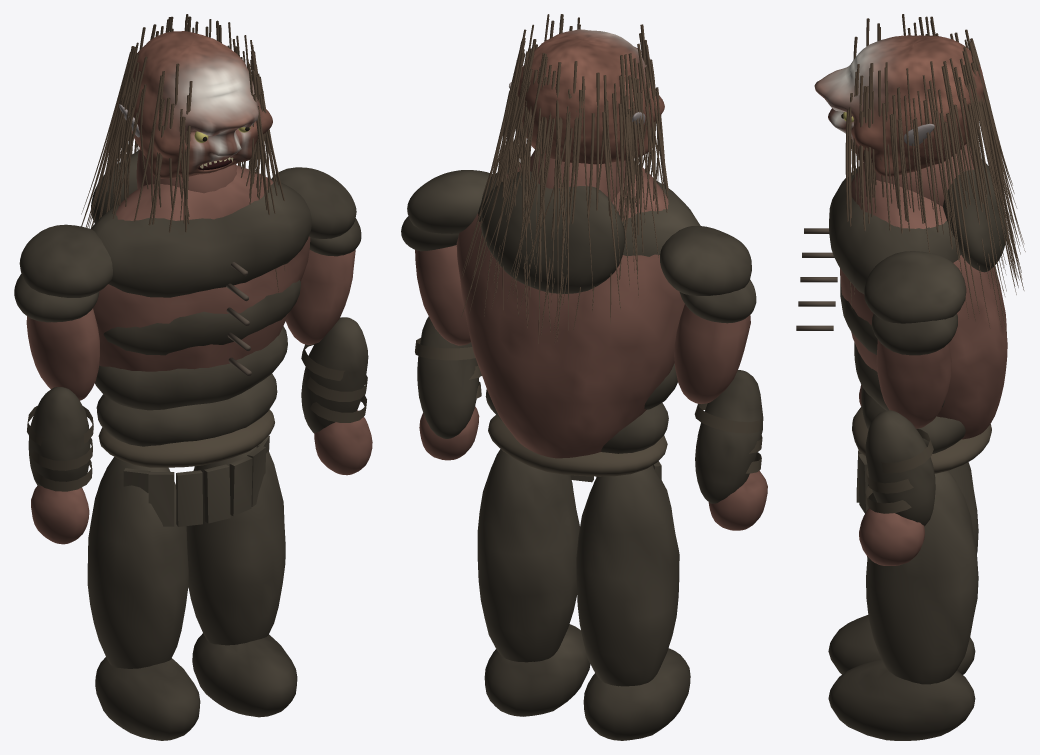
File: orc2.glb
The picture shows the model from 3 angles, left to right: view 1: azimuth 30°, elevation 25°; view 2: azimuth 150°, elevation 25°; view 3: azimuth 270°, elevation 25°; orthographic projection. The views are drawn at different scales.
Parts seen in each view (by area): view 1: Leg, Plate, Torso, Head, Leg.001, OrcHair, Plate.002, Boot, Boot.001, Plate.003, Pauldron, Plate.001 (+22 smaller); view 2: Torso, OrcHair, Leg, Leg.001, Collar, Head, Boot, Boot.001, Forearm, Pauldron, UpperArm, Forearm.001 (+13 smaller); view 3: OrcHair, Leg.001, Head, Torso, Boot.001, Pauldron.002, Plate, Forearm.001, UpperArm.001, Collar, Fist.001, Pauldron.003 (+12 smaller).
Boxes of the visible parts, <box> form: Leg: <box>87,457,188,668</box>; Plate: <box>91,179,311,297</box>; Torso: <box>93,165,310,371</box>; Head: <box>132,31,272,178</box>; Leg.001: <box>186,446,285,645</box>; OrcHair: <box>81,14,285,292</box>; Plate.002: <box>95,326,287,410</box>; Boot: <box>95,657,200,740</box>; Boot.001: <box>192,633,297,717</box>; Plate.003: <box>96,374,277,446</box>; Pauldron: <box>19,224,112,297</box>; Plate.001: <box>103,280,300,355</box>; Torso: <box>456,163,684,458</box>; OrcHair: <box>461,14,668,343</box>; Leg: <box>576,465,679,686</box>; Leg.001: <box>477,449,579,662</box>; Collar: <box>480,171,625,293</box>; Head: <box>517,29,664,164</box>; Boot: <box>583,648,690,740</box>; Boot.001: <box>484,624,590,716</box>; Forearm: <box>695,370,763,503</box>; Pauldron: <box>660,226,751,295</box>; UpperArm: <box>674,304,750,403</box>; Forearm.001: <box>417,316,479,438</box>; OrcHair: <box>845,14,1025,333</box>; Leg.001: <box>866,470,978,684</box>; Head: <box>814,35,985,176</box>; Torso: <box>840,163,1007,439</box>; Boot.001: <box>828,659,975,740</box>; Pauldron.002: <box>864,251,966,323</box>; Plate: <box>829,166,960,294</box>; Forearm.001: <box>865,410,935,526</box>; UpperArm.001: <box>876,339,951,428</box>; Collar: <box>943,154,1006,272</box>; Fist.001: <box>859,508,924,565</box>; Pauldron.003: <box>871,313,957,355</box>.
Bounding box in the file's own units: 1.09 × 2.1 × 0.6441.
